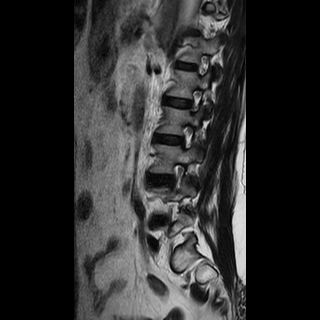LFS0: (163, 158, 189, 195), (172, 117, 197, 153), (181, 83, 208, 116)
